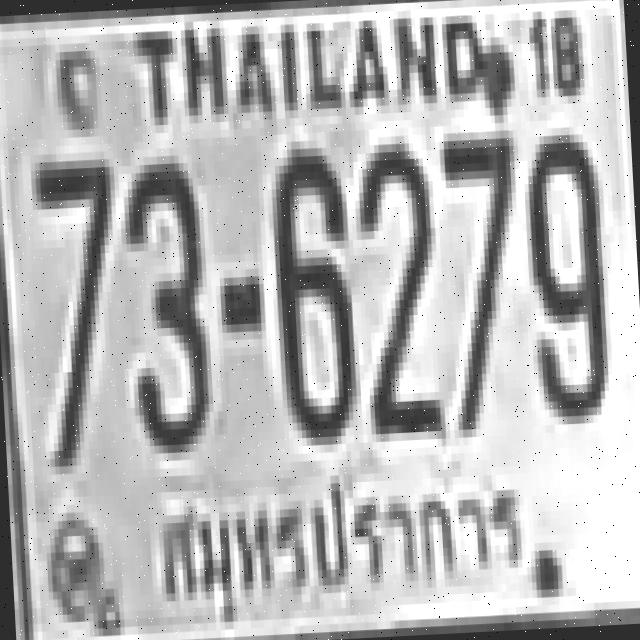2: (354, 135, 440, 435)
3: (120, 154, 209, 446)
6: (266, 140, 354, 440)
7: (32, 152, 122, 466), (439, 122, 524, 430)
9: (524, 126, 608, 418)
SamutPrakan: (153, 450, 533, 634)
